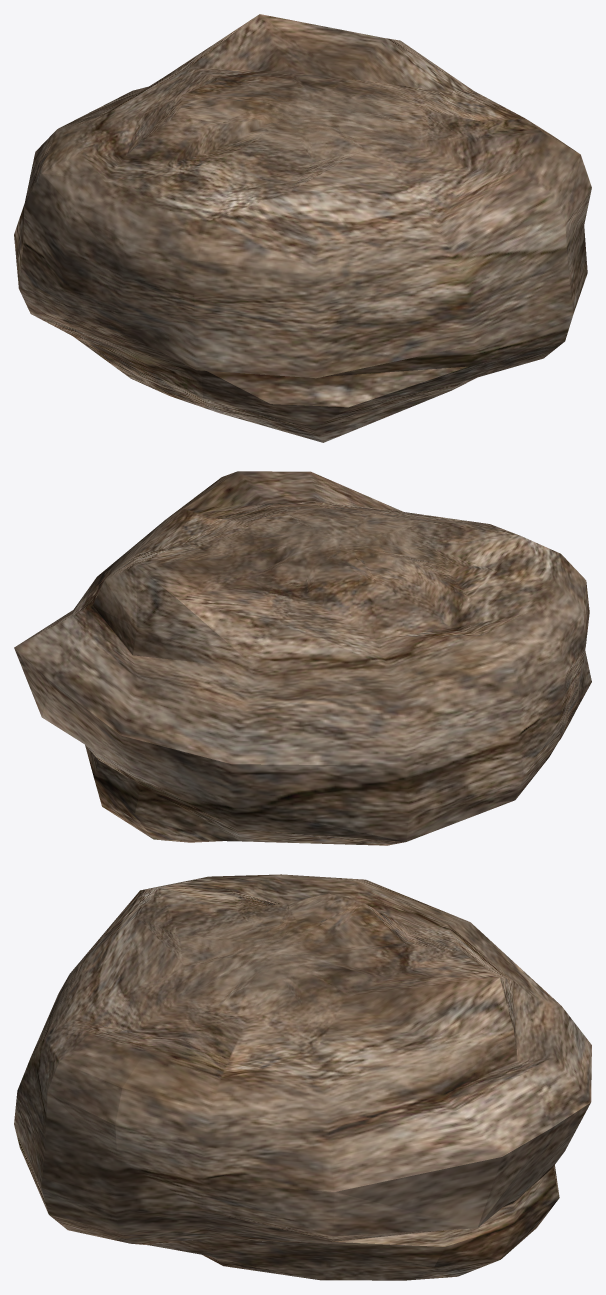
The model's file is RockSmallFlat_LOD1.obj.
3 renders of one model, top to bottom at view 1: azimuth 30°, elevation 25°; view 2: azimuth 150°, elevation 25°; view 3: azimuth 270°, elevation 25°, orthographic. The views are drawn at different scales.
Visible parts, largest first — view 1: RockSmallFlat_LOD1; view 2: RockSmallFlat_LOD1; view 3: RockSmallFlat_LOD1.
Part boxes in pixels (<box>): RockSmallFlat_LOD1: <box>14,14,591,442</box>; RockSmallFlat_LOD1: <box>14,471,591,845</box>; RockSmallFlat_LOD1: <box>14,874,591,1280</box>.
Size of the model in its own units: 1.59 by 0.8278 by 1.58.
